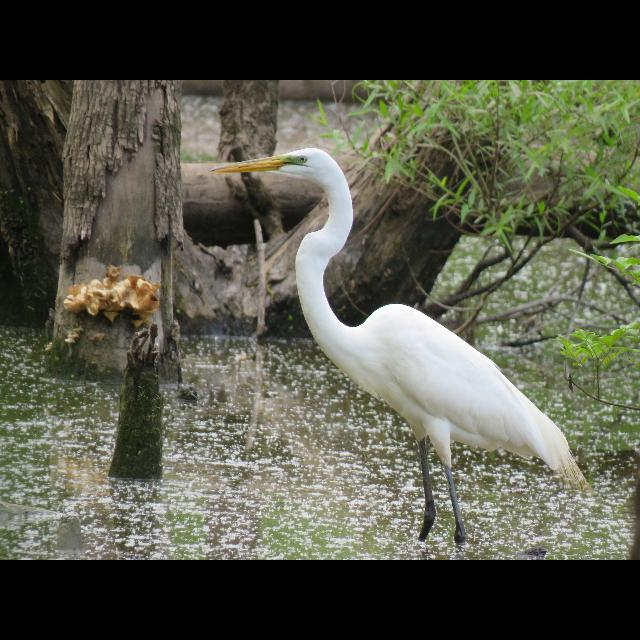egret: (209, 143, 589, 549)
